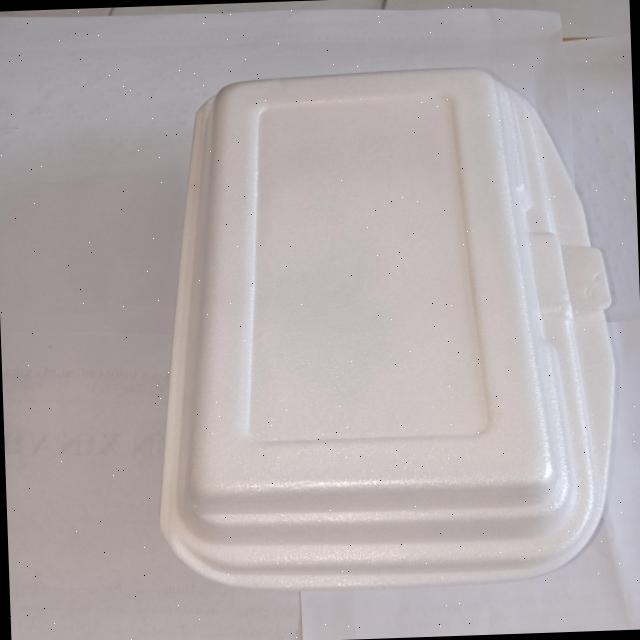styrofoam: (142, 59, 623, 596)
